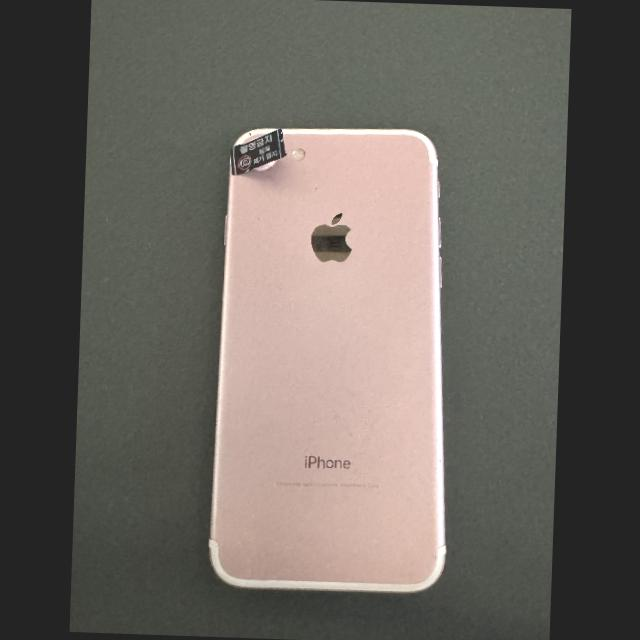phone: (209, 125, 445, 592)
sticker: (230, 128, 285, 176)
